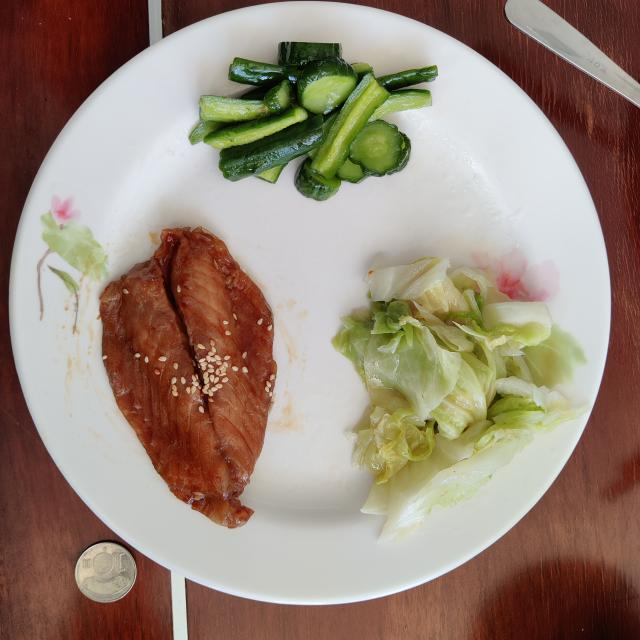Kabayaki sea bream fillet: (100, 228, 276, 528)
cabbage: (332, 258, 585, 541)
coin: (75, 542, 136, 602)
cucumber: (189, 41, 438, 200)
